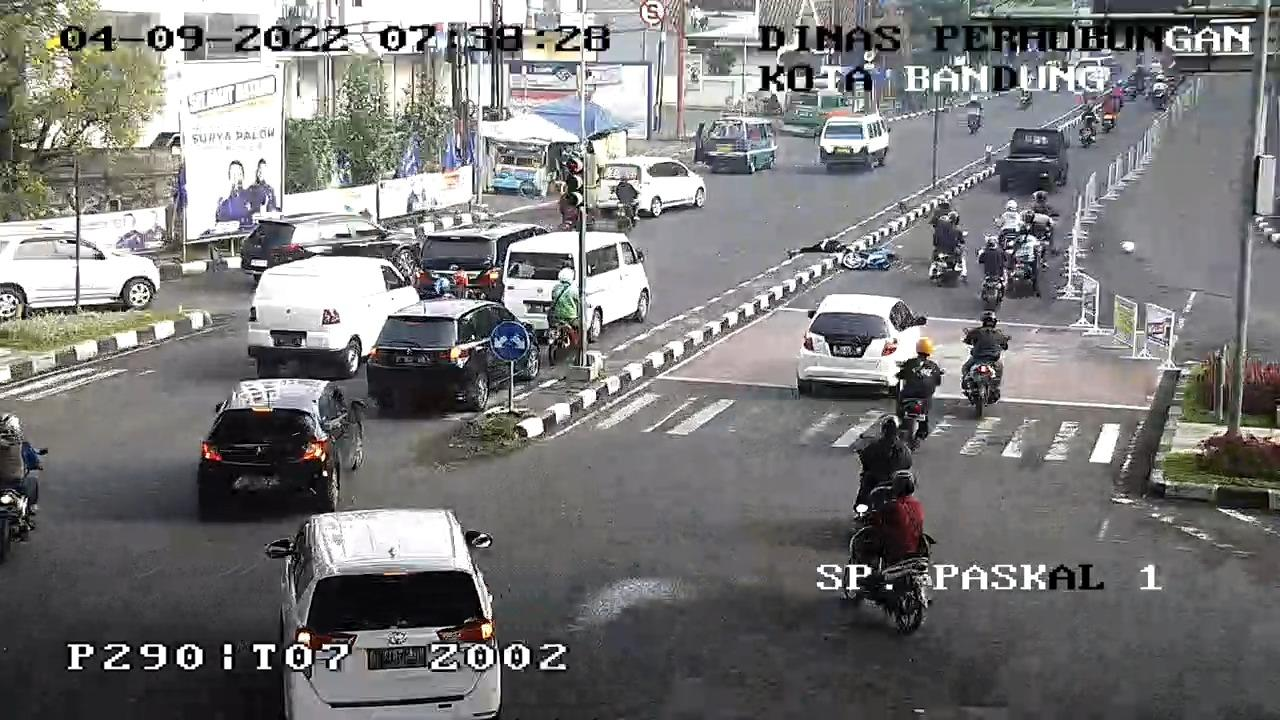accident: (776, 225, 849, 260)
